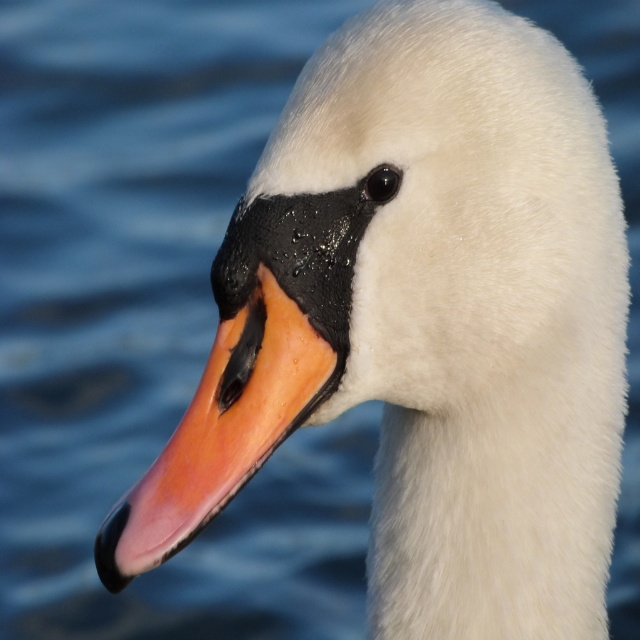Duck: (92, 0, 640, 640)
